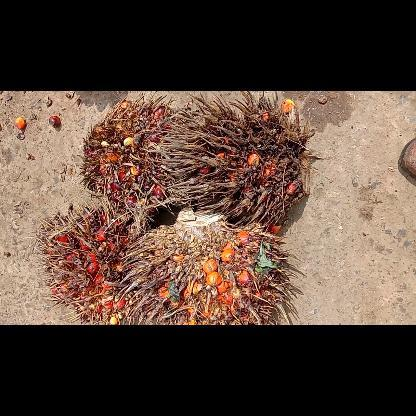Terlalu masak: (150, 91, 318, 235), (117, 204, 305, 324), (30, 196, 156, 324), (77, 92, 195, 216)
